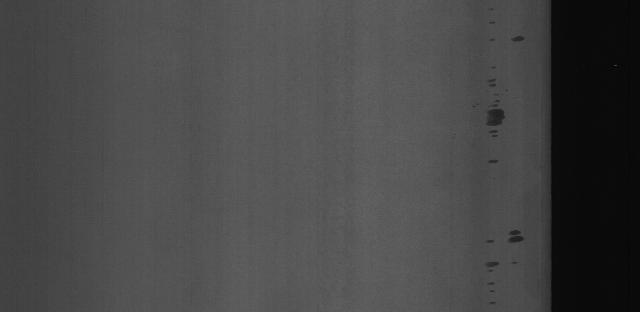oil_spot: (481, 72, 506, 169), (480, 238, 504, 306), (506, 222, 526, 265), (513, 22, 533, 57)
